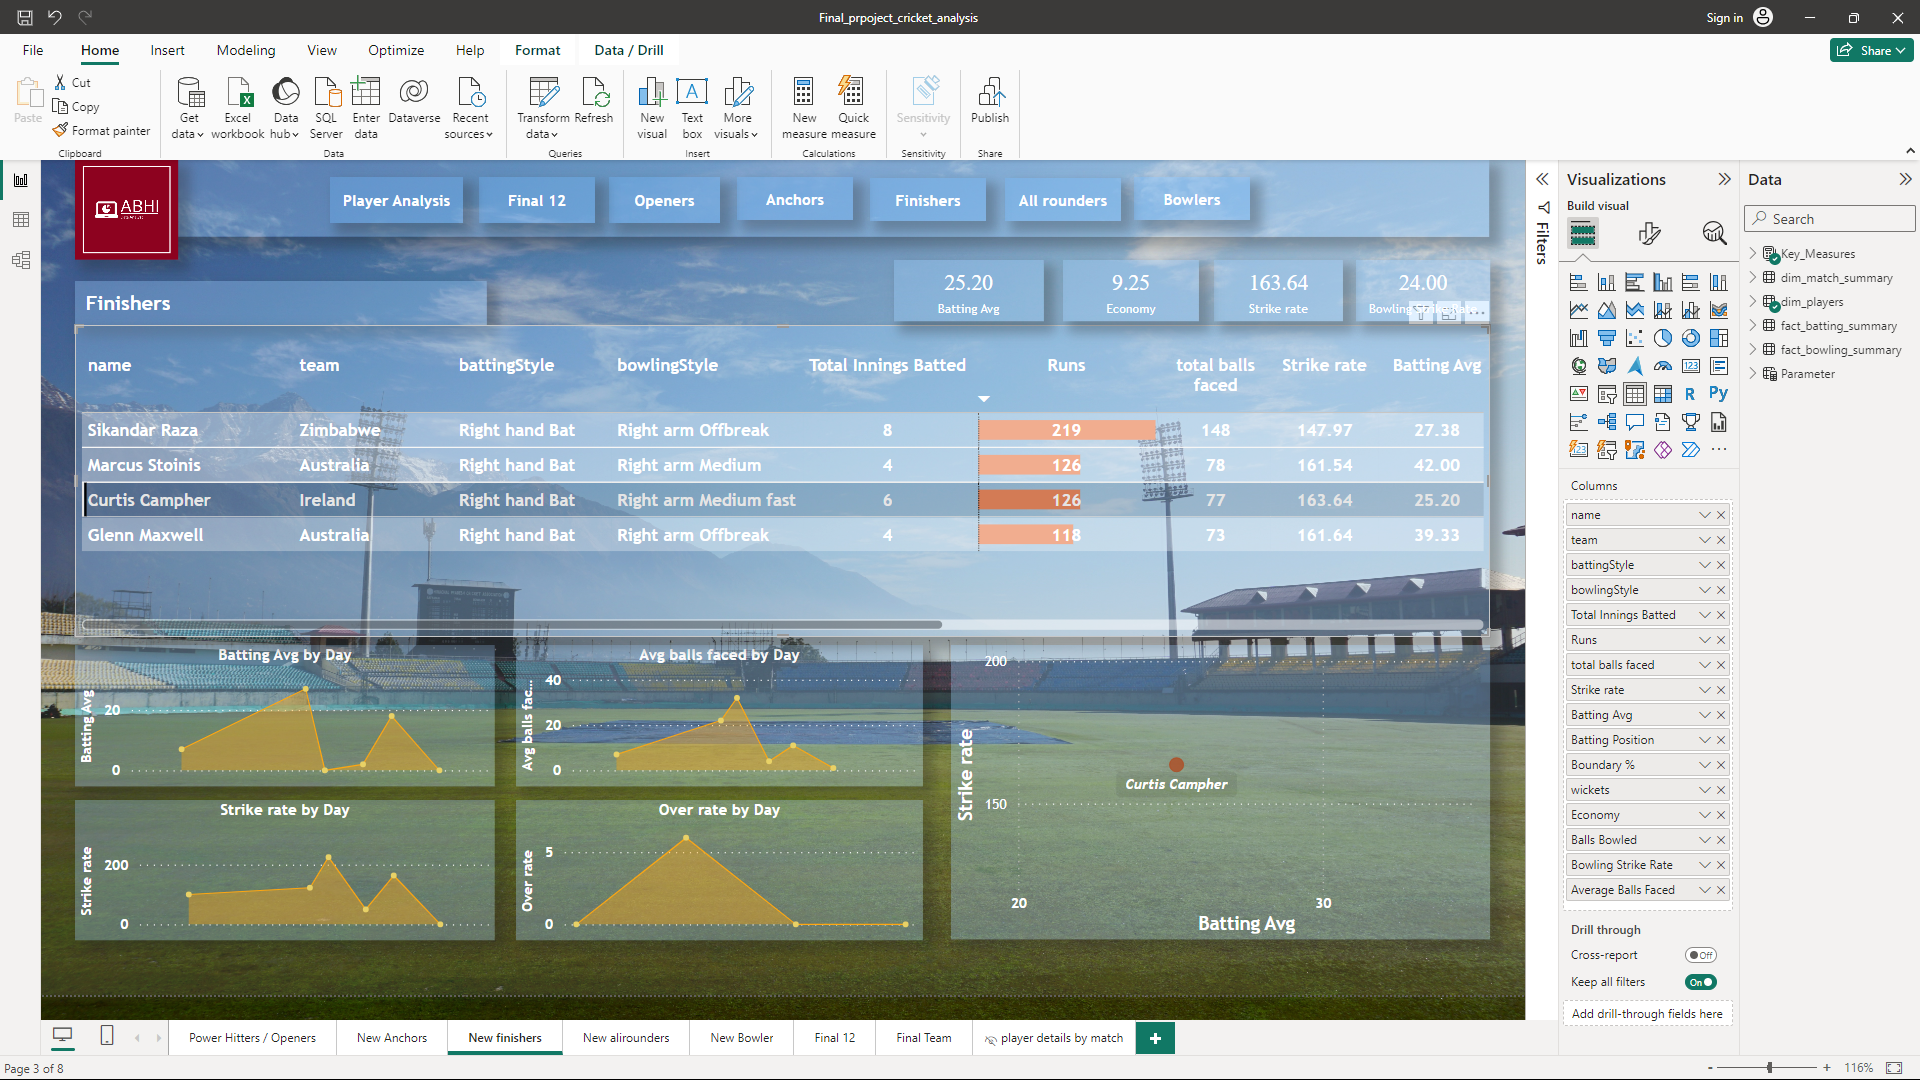

The dashboard page shown, as its layout file describes it:
{"tool":"powerbi","page":{"name":"New finishers","canvas":[1280,720],"ordinal":5},"visuals":[{"type":"shape","box":[29.3,0,1220.5,66.4],"z":0},{"type":"shape","box":[29.3,104.4,355.4,38],"z":1000},{"type":"areaChart","fields":{"Y":["Key_Measures.Batting Avg"],"Category":["dim_match_summary.matchDate.Variation.Date Hierarchy.Day"]},"box":[29.3,418.3,362.3,121.6],"z":2000},{"type":"areaChart","fields":{"Y":["Key_Measures.Average Balls Faced"],"Category":["dim_match_summary.matchDate.Variation.Date Hierarchy.Day"]},"box":[409.7,418.3,351.1,121.6],"z":3000},{"type":"areaChart","fields":{"Y":["Key_Measures.Strike rate"],"Category":["dim_match_summary.matchDate.Variation.Date Hierarchy.Day"]},"box":[29.3,552,362.3,120.8],"z":4000},{"type":"areaChart","fields":{"Category":["dim_match_summary.matchDate.Variation.Date Hierarchy.Day"],"Y":["Key_Measures.Bowling Strike Rate"]},"box":[409.7,552,351.1,120.8],"z":5000},{"type":"image","box":[29.3,0,88.8,86.3],"z":6000},{"type":"actionButton","box":[715,15.5,100.1,37.1],"z":7000},{"type":"actionButton","box":[831.5,15.5,100.1,37.1],"z":8000},{"type":"actionButton","box":[942.7,14.7,100.1,37.1],"z":9000},{"type":"actionButton","box":[600.3,14.7,100.1,37.1],"z":10000},{"type":"actionButton","box":[489.9,14.7,95.7,39.7],"z":11000},{"type":"actionButton","box":[377.8,14.7,100.1,39.7],"z":12000},{"type":"actionButton","box":[249.3,14.7,114.7,39.7],"z":13000},{"type":"tableEx","fields":{"Values":["dim_player.name","dim_player.team","dim_player.Batting Style","dim_player.Bowling Style","Key_Measures.Total Matches","Key_Measures.Total Runs","Key_Measures.total balls faced","Key_Measures.Strike rate","Key_Measures.Bat Avg","Key_Measures.Batting Position","Key_Measures.Boundary %","Key_Measures.wickets"]},"box":[29.3,142.3,1220.5,269.1],"z":14000},{"type":"card","fields":{"Values":["Key_Measures.Bat Avg"]},"box":[735.7,86.3,128.5,52.6],"z":15000},{"type":"card","fields":{"Values":["Key_Measures.Strike rate"]},"box":[1011.8,86.3,111.3,52.6],"z":16000},{"type":"card","fields":{"Values":["Key_Measures.Bowling Strike Rate"]},"box":[1134.2,86.3,115.6,52.6],"z":17000},{"type":"card","fields":{"Values":["Key_Measures.Economy"]},"box":[881.5,86.3,117.3,52.6],"z":18000},{"type":"scatterChart","fields":{"Y":["Key_Measures.Strike rate"],"Category":["dim_player.name"],"X":["Key_Measures.Bat Avg"],"Series":["dim_player.name"]},"box":[784.9,418.3,464.9,254.4],"z":19000}]}

Visuals, with their boxes on the page's 1280x720 design canvas (x1, y1, x2, y2). These are canvas units, not pixel positions in the 1920x1080 screenshot, which may show the page scaled, cropped or inside an application window:
shape: left=29, top=0, right=1250, bottom=66
shape: left=29, top=104, right=385, bottom=142
areaChart - Key_Measures.Batting Avg x dim_match_summary.matchDate.Variation.Date Hierarchy.Day: left=29, top=418, right=392, bottom=540
areaChart - Key_Measures.Average Balls Faced x dim_match_summary.matchDate.Variation.Date Hierarchy.Day: left=410, top=418, right=761, bottom=540
areaChart - Key_Measures.Strike rate x dim_match_summary.matchDate.Variation.Date Hierarchy.Day: left=29, top=552, right=392, bottom=673
areaChart - dim_match_summary.matchDate.Variation.Date Hierarchy.Day x Key_Measures.Bowling Strike Rate: left=410, top=552, right=761, bottom=673
image: left=29, top=0, right=118, bottom=86
actionButton: left=715, top=16, right=815, bottom=53
actionButton: left=832, top=16, right=932, bottom=53
actionButton: left=943, top=15, right=1043, bottom=52
actionButton: left=600, top=15, right=700, bottom=52
actionButton: left=490, top=15, right=586, bottom=54
actionButton: left=378, top=15, right=478, bottom=54
actionButton: left=249, top=15, right=364, bottom=54
tableEx - dim_player.name x dim_player.team: left=29, top=142, right=1250, bottom=411
card - Key_Measures.Bat Avg: left=736, top=86, right=864, bottom=139
card - Key_Measures.Strike rate: left=1012, top=86, right=1123, bottom=139
card - Key_Measures.Bowling Strike Rate: left=1134, top=86, right=1250, bottom=139
card - Key_Measures.Economy: left=882, top=86, right=999, bottom=139
scatterChart - Key_Measures.Strike rate x dim_player.name: left=785, top=418, right=1250, bottom=673
